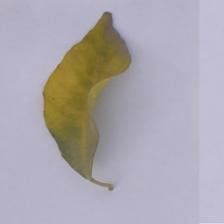greening: (38, 8, 138, 199)
